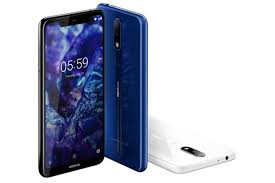nokia: (35, 8, 106, 178)
